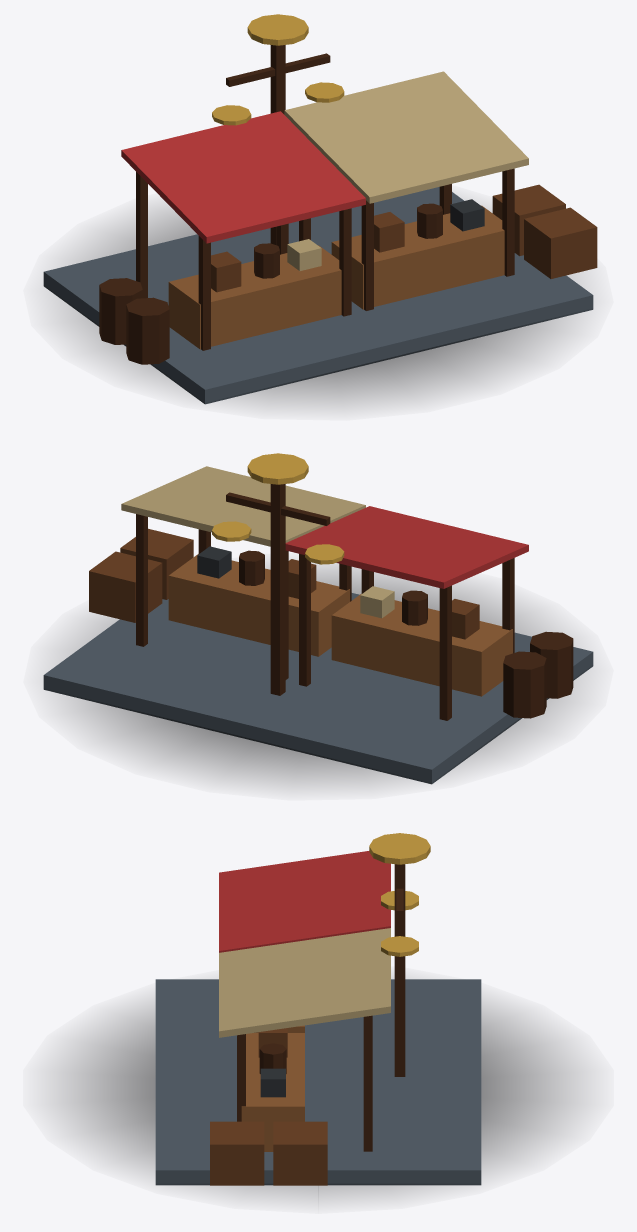
File: market_t0.glb
3 renders of one model, top to bottom at view 1: azimuth 30°, elevation 25°; view 2: azimuth 150°, elevation 25°; view 3: azimuth 270°, elevation 25°, orthographic.
Parts seen in each view (by area): view 1: market_t0; view 2: market_t0; view 3: market_t0.
Part boxes in pixels (bbox=[...]): market_t0: bbox=[43, 14, 597, 404]; market_t0: bbox=[43, 453, 593, 784]; market_t0: bbox=[60, 833, 576, 1202].
Bounding box in the file's own units: 6.8 × 2.97 × 6.73.
